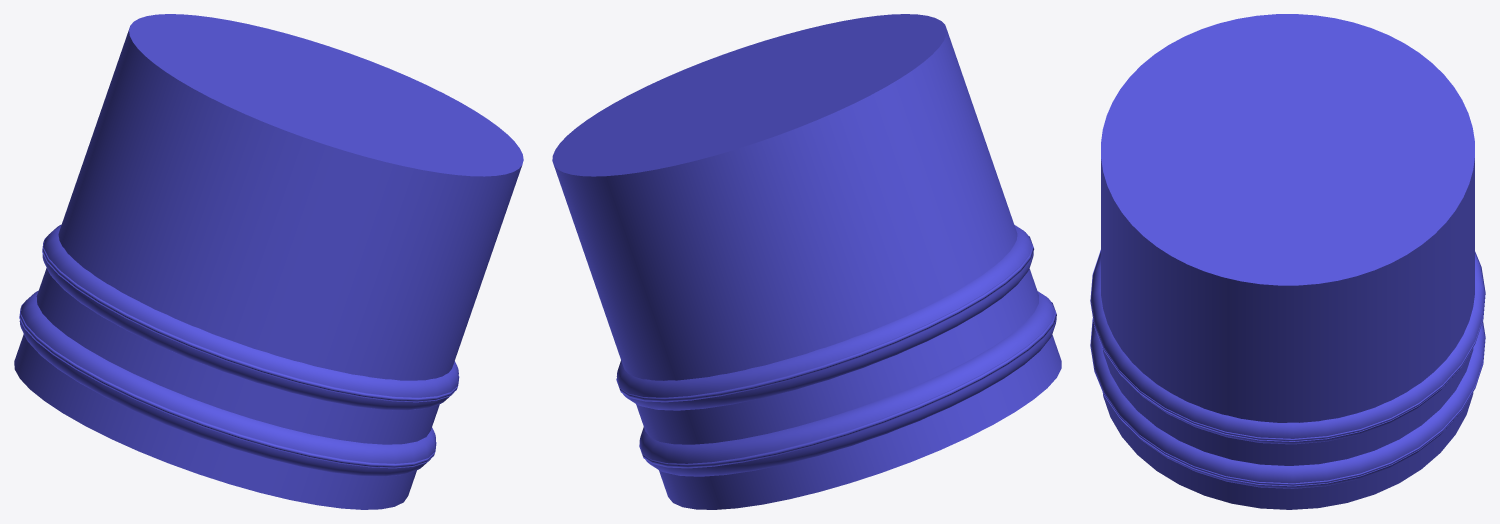
File: bombilla156.obj
3 views of the same model, side by side, from view 1: azimuth 30°, elevation 25°; view 2: azimuth 150°, elevation 25°; view 3: azimuth 270°, elevation 25° (orthographic). The views are drawn at different scales.
Visible parts, largest first — view 1: Cylinder001, Cylinder003, Cylinder004, Cylinder006, Cylinder002; view 2: Cylinder001, Cylinder003, Cylinder004, Cylinder006, Cylinder002; view 3: Cylinder001, Cylinder004, Cylinder002, Cylinder003, Cylinder006.
Part boxes in pixels (x1=…): Cylinder001: x1=58, y1=14, x2=523, y2=380; Cylinder003: x1=36, y1=268, x2=439, y2=444; Cylinder004: x1=19, y1=290, x2=436, y2=476; Cylinder006: x1=14, y1=334, x2=416, y2=509; Cylinder002: x1=42, y1=224, x2=459, y2=410; Cylinder001: x1=552, y1=14, x2=1017, y2=380; Cylinder003: x1=636, y1=268, x2=1038, y2=444; Cylinder004: x1=639, y1=291, x2=1056, y2=476; Cylinder006: x1=659, y1=335, x2=1061, y2=509; Cylinder002: x1=616, y1=225, x2=1034, y2=410; Cylinder001: x1=1101, y1=14, x2=1474, y2=422; Cylinder004: x1=1090, y1=318, x2=1485, y2=488; Cylinder002: x1=1090, y1=250, x2=1485, y2=444; Cylinder003: x1=1102, y1=348, x2=1473, y2=465; Cylinder006: x1=1102, y1=392, x2=1473, y2=509.
Bounding box in the file's own units: 85.51 × 80.52 × 72.21.
